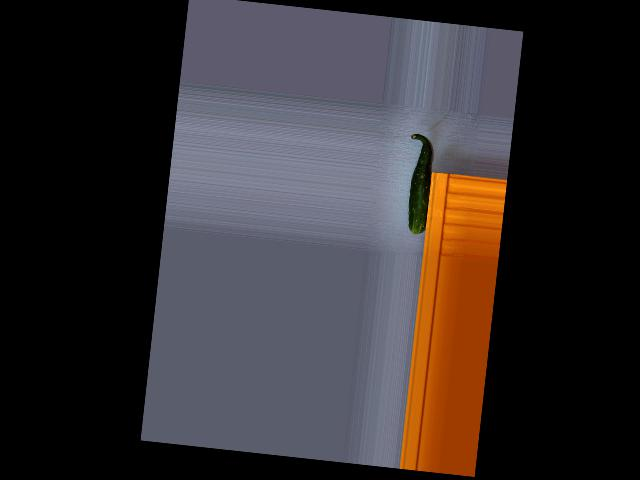cucumber: (400, 132, 436, 234)
